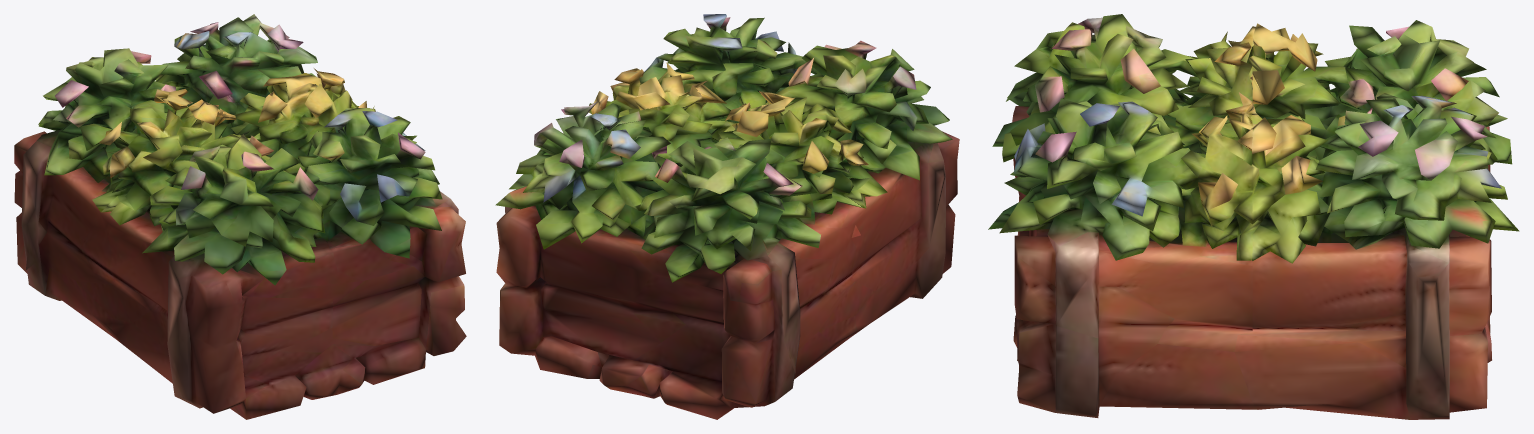
File: flower_box_l3.glb
3 views of the same model, side by side, from view 1: azimuth 30°, elevation 25°; view 2: azimuth 150°, elevation 25°; view 3: azimuth 270°, elevation 25° (orthographic). The views are drawn at different scales.
Visible parts, largest first — view 1: tripo_node_127b84db-80f0-4ea4-9fd6-6a07fc470ea1; view 2: tripo_node_127b84db-80f0-4ea4-9fd6-6a07fc470ea1; view 3: tripo_node_127b84db-80f0-4ea4-9fd6-6a07fc470ea1.
Boxes of the visible parts, box(x1,y1,x2,y2) form: tripo_node_127b84db-80f0-4ea4-9fd6-6a07fc470ea1: box(14, 14, 466, 419); tripo_node_127b84db-80f0-4ea4-9fd6-6a07fc470ea1: box(495, 14, 959, 419); tripo_node_127b84db-80f0-4ea4-9fd6-6a07fc470ea1: box(988, 14, 1519, 419).
Size of the model in its own units: 0.7566 by 0.609 by 0.9923.
Materials: 1 (1 with a texture image).
